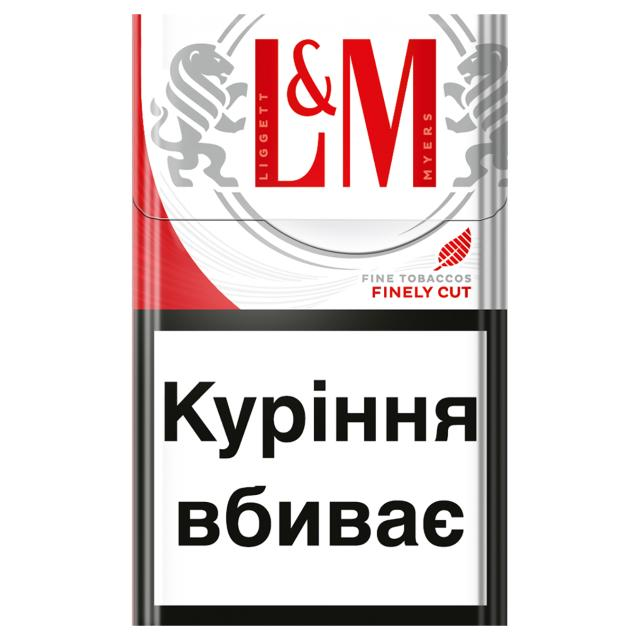lm: (133, 6, 518, 634)
